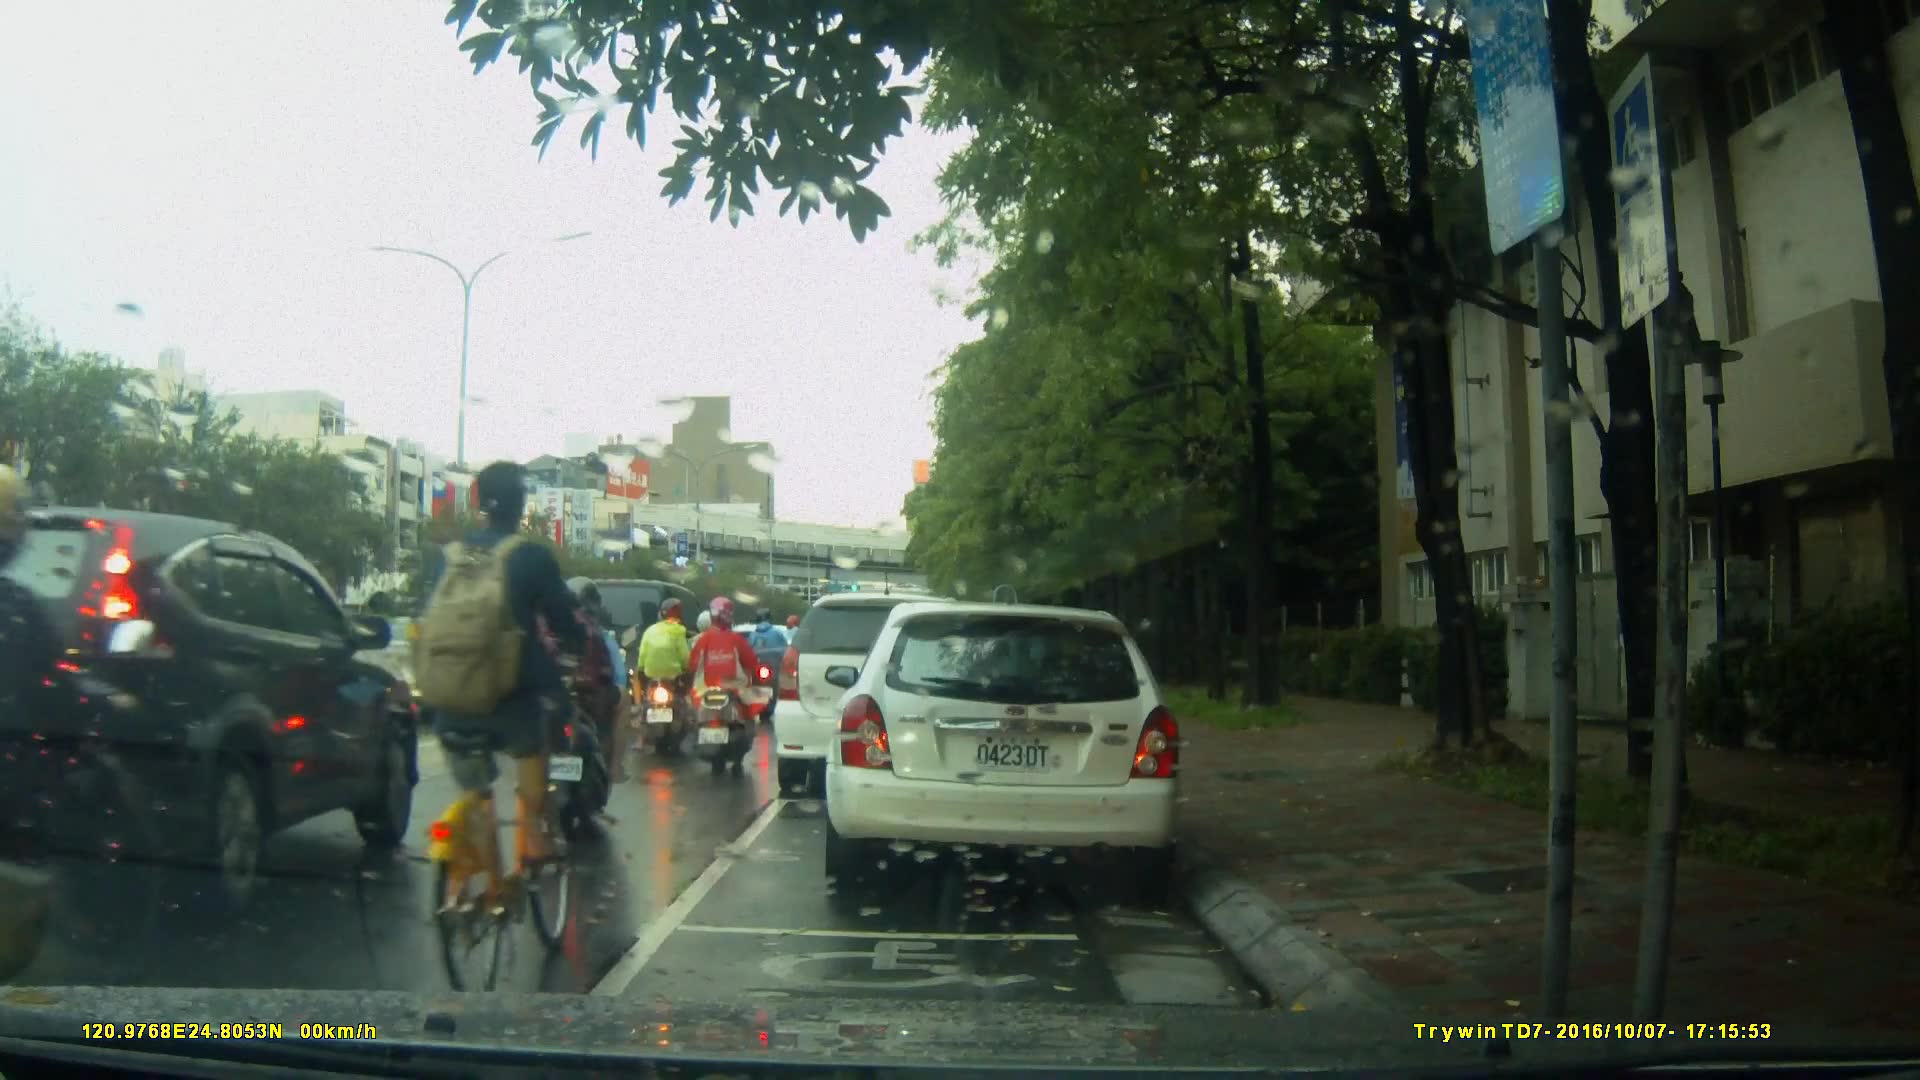rider: (1, 476, 171, 1054), (419, 461, 600, 999), (532, 576, 631, 835), (680, 597, 755, 776), (635, 600, 707, 758), (678, 604, 745, 728), (466, 602, 530, 731), (746, 600, 797, 728)
vehicle: (2, 507, 417, 929), (822, 604, 1188, 883), (774, 595, 995, 802), (339, 610, 524, 725)
